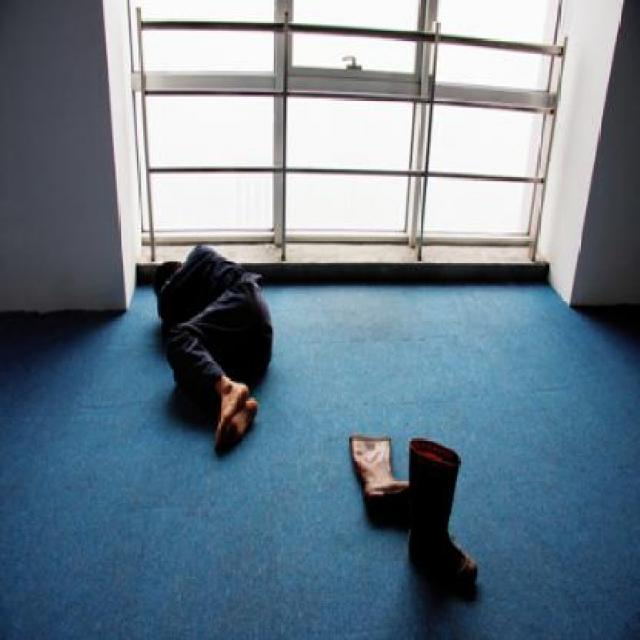fall: (139, 236, 279, 453)
